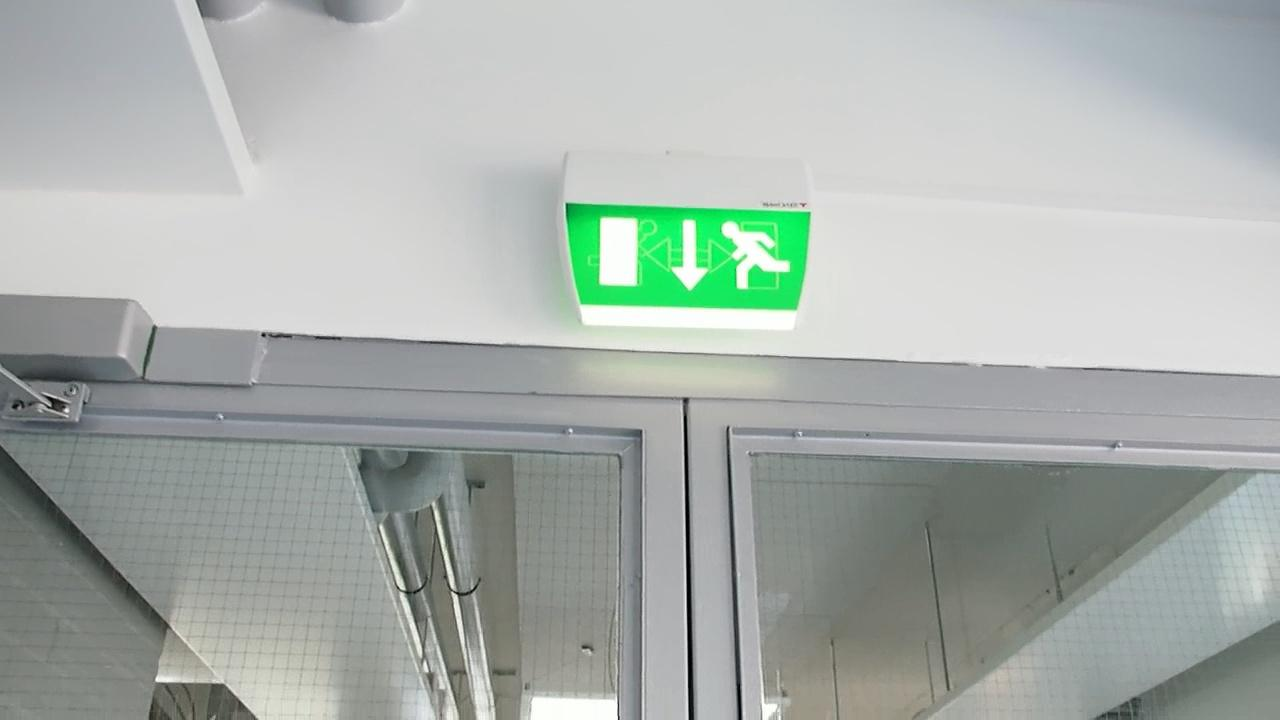exit: (561, 199, 822, 327)
